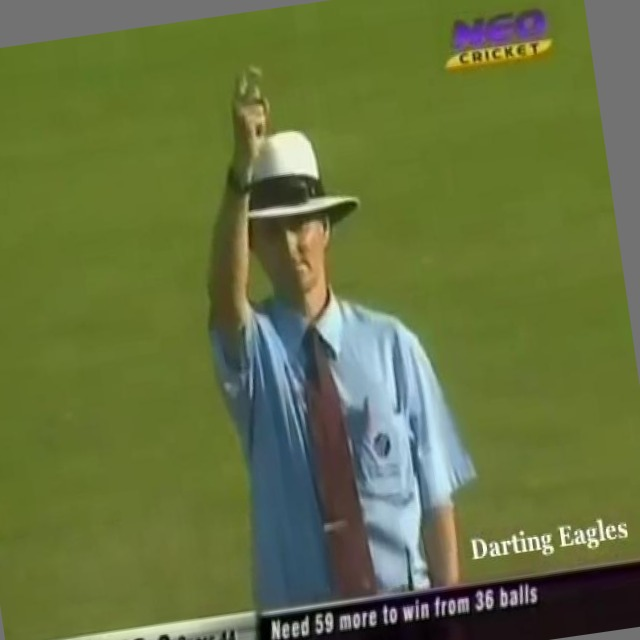Out: (166, 32, 486, 619)
